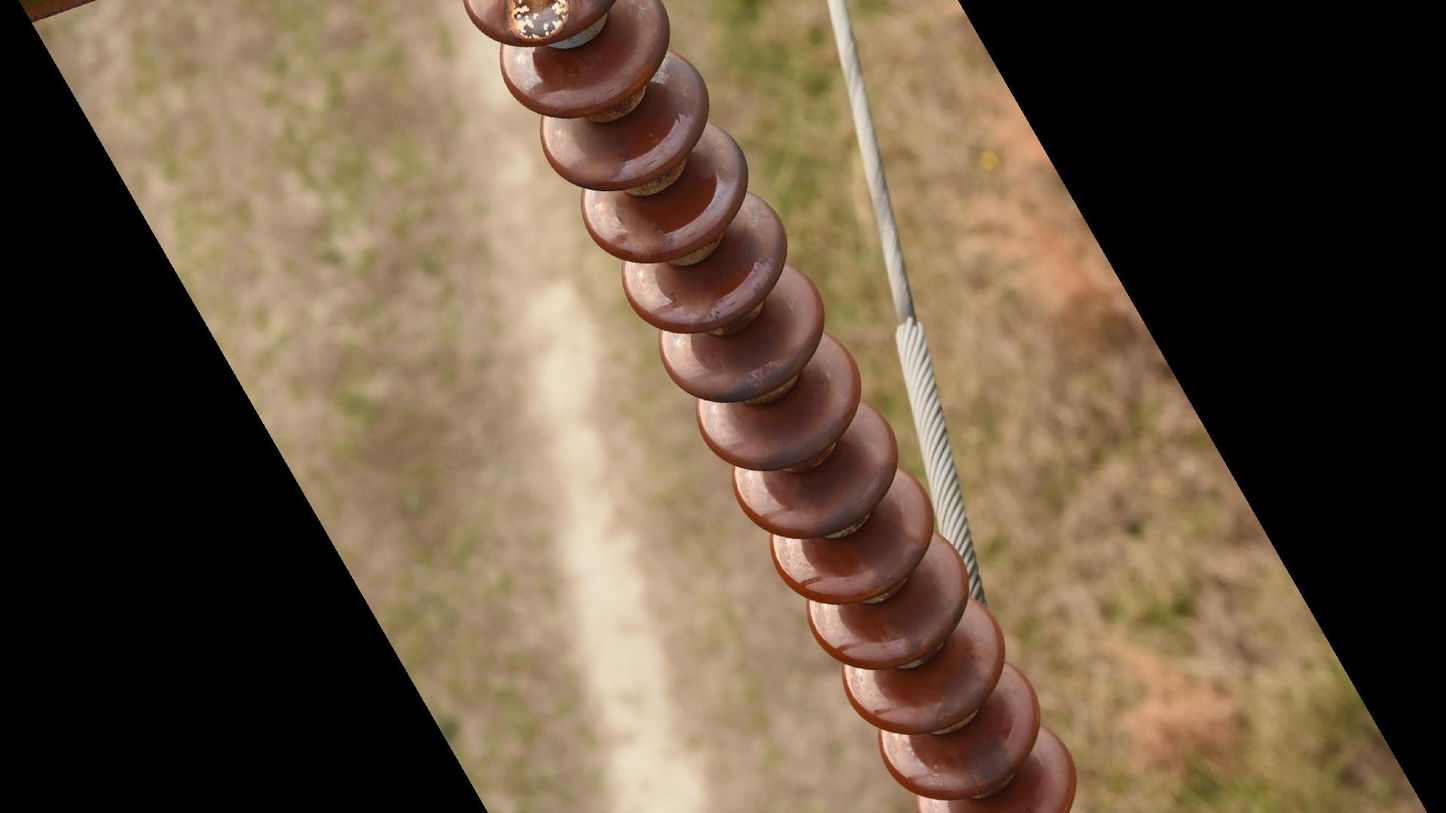insulator: (455, 1, 1084, 813)
insulator_flashover: (502, 1, 576, 49)
